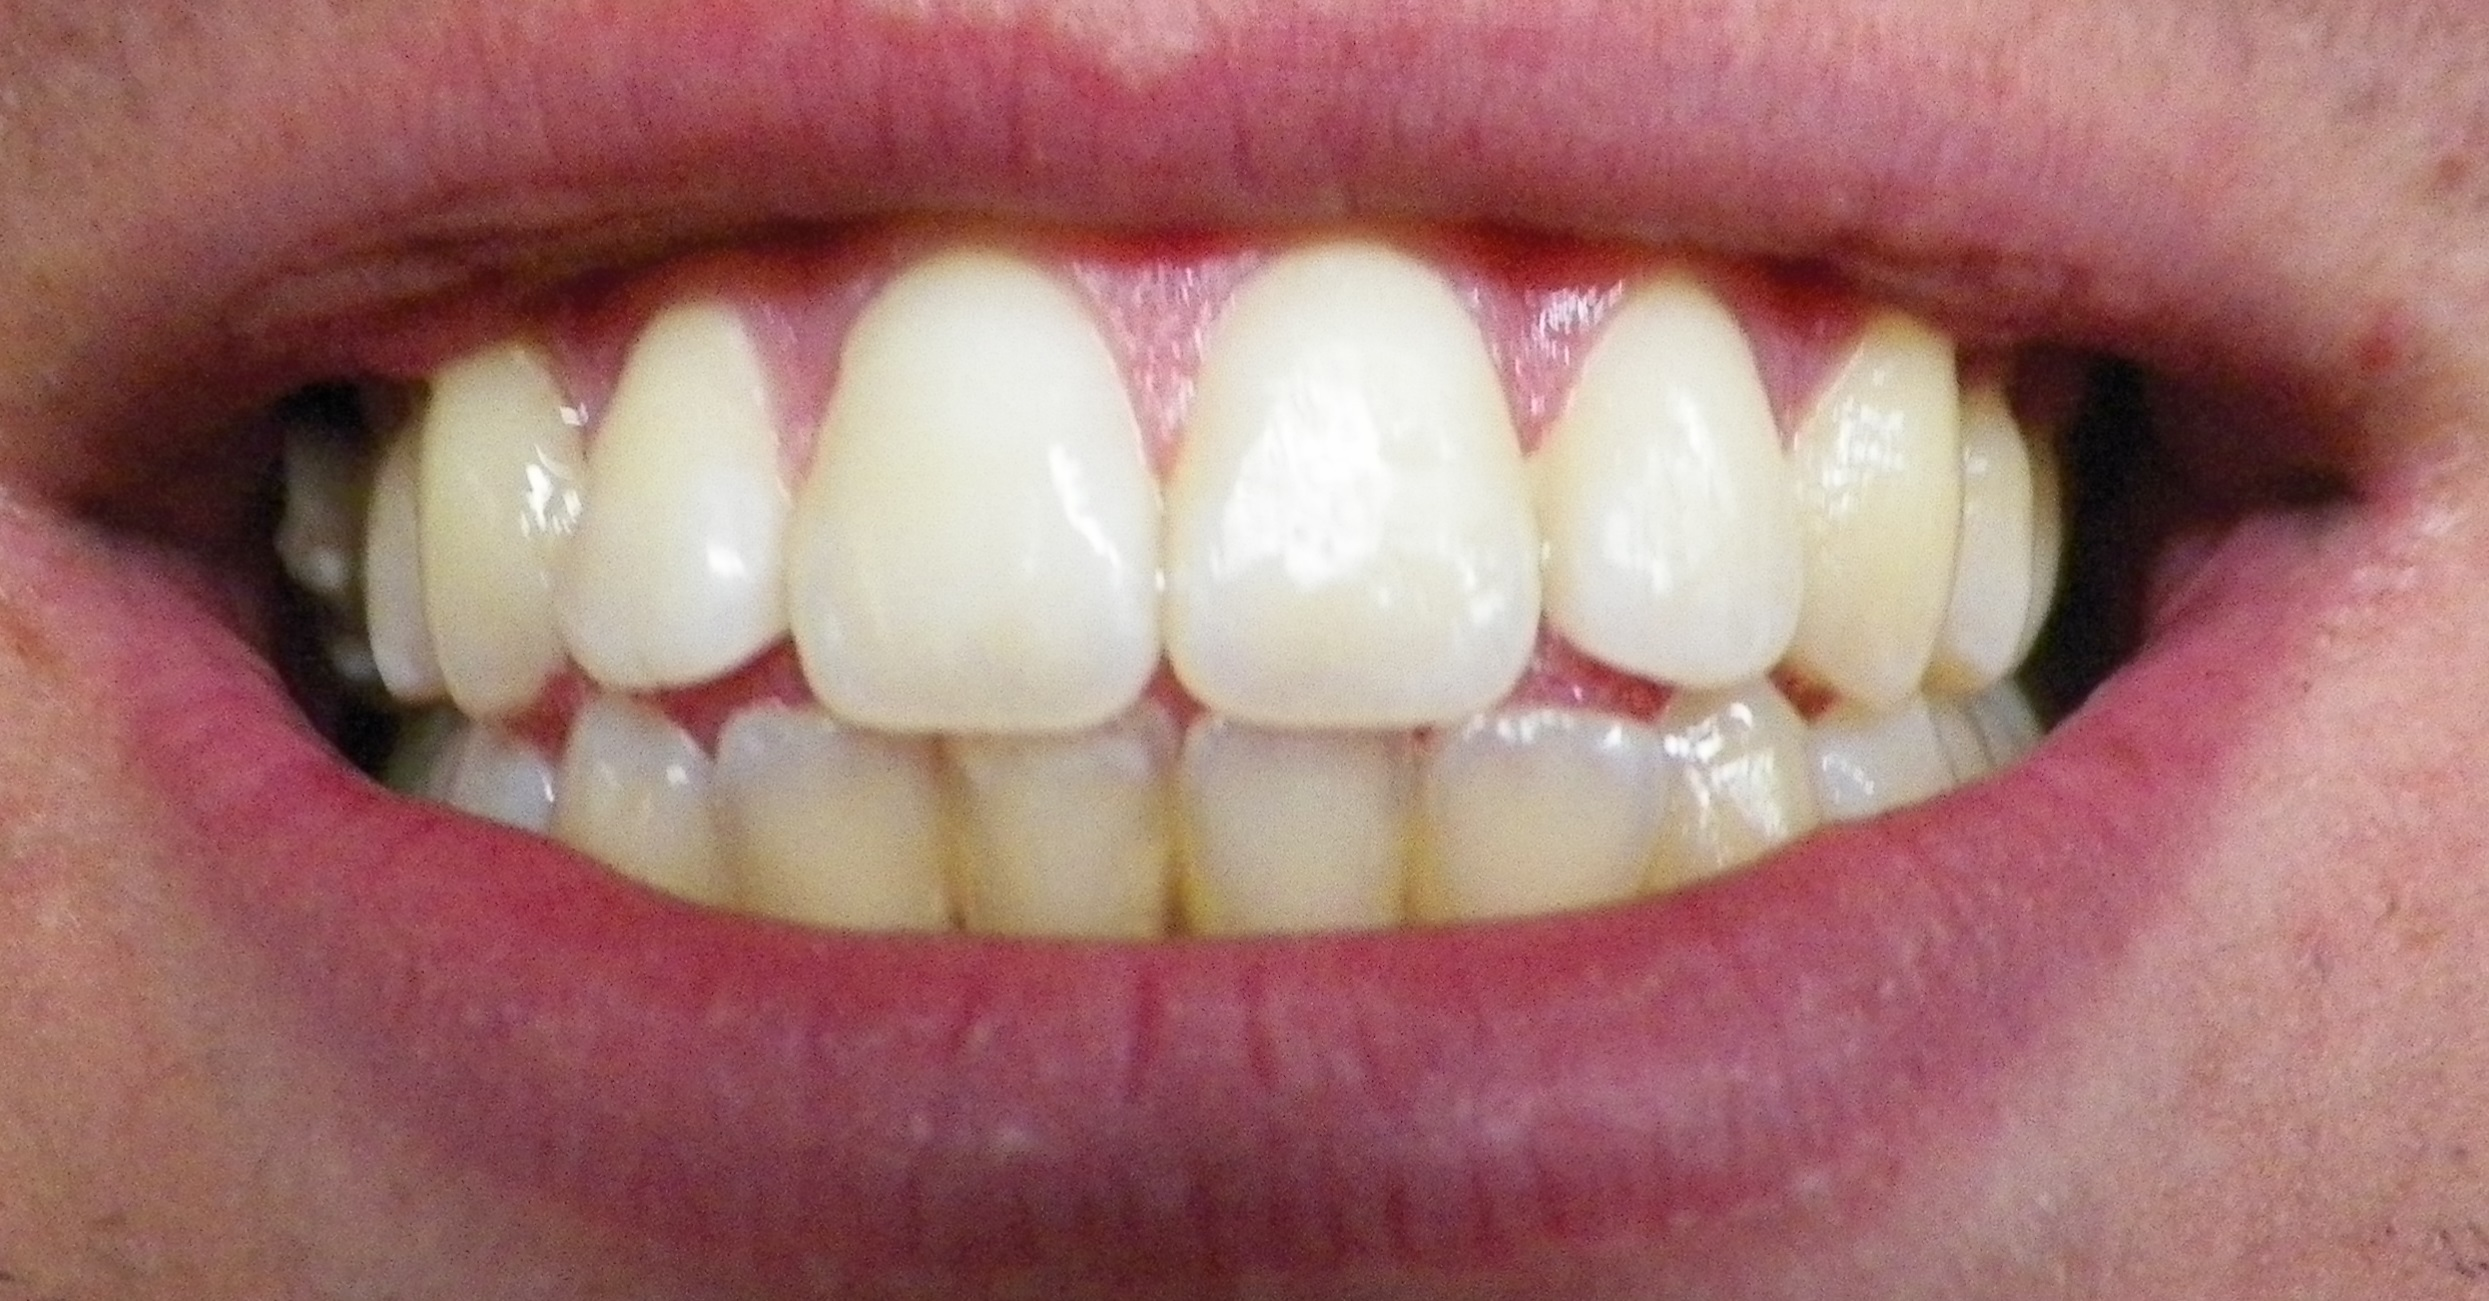boca: (354, 278, 2068, 929)
